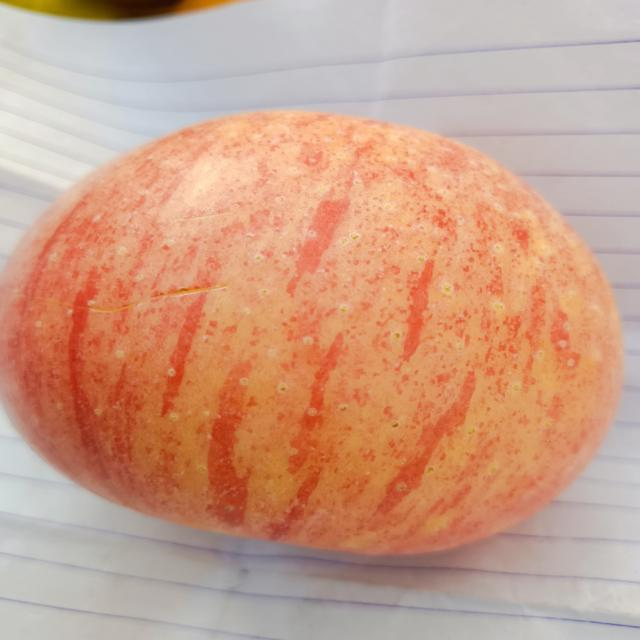Fresh Apple: (23, 125, 625, 573)
